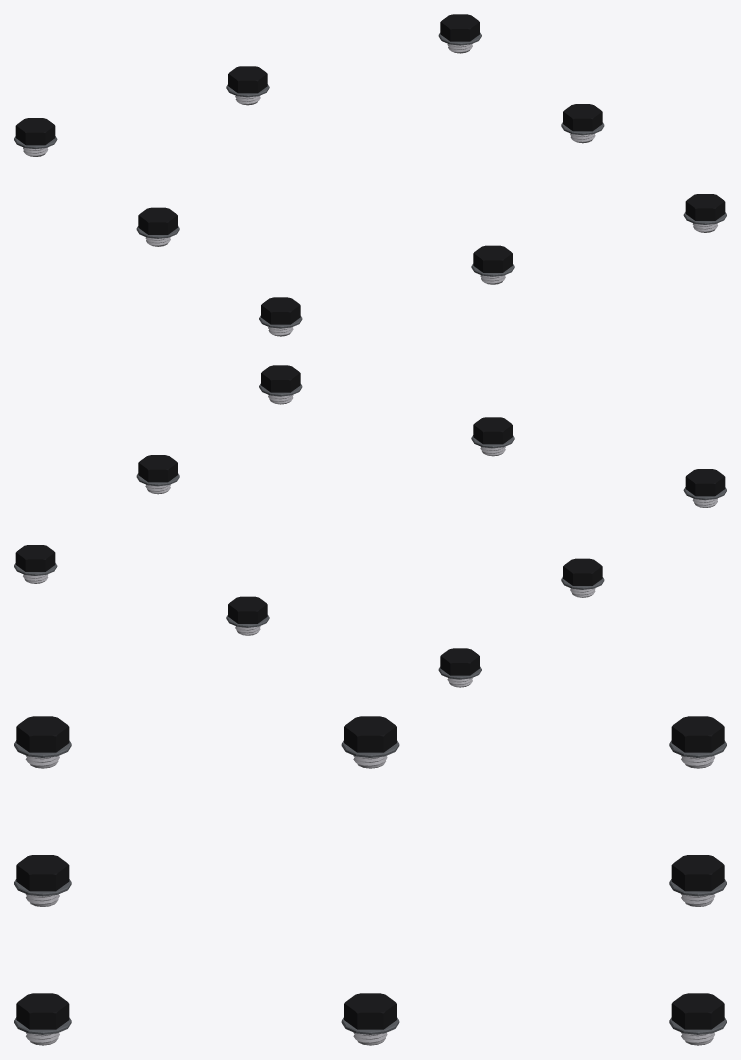
Rendered from cover_bolts_ok.glb.
The picture shows the model from 3 angles, top to bottom: view 1: azimuth 30°, elevation 25°; view 2: azimuth 150°, elevation 25°; view 3: azimuth 270°, elevation 25°; orthographic projection. The views are drawn at different scales.
Parts seen in each view (by area): view 1: cover_bolts_ok; view 2: cover_bolts_ok; view 3: cover_bolts_ok.
Boxes of the visible parts, x1,y1,x2,y2 form: cover_bolts_ok: (14,14,726,336); cover_bolts_ok: (14,365,726,687); cover_bolts_ok: (14,716,726,1045).
Bounding box in the file's own units: 0.457 × 0.026 × 0.457.
3 materials, 2 textured.
